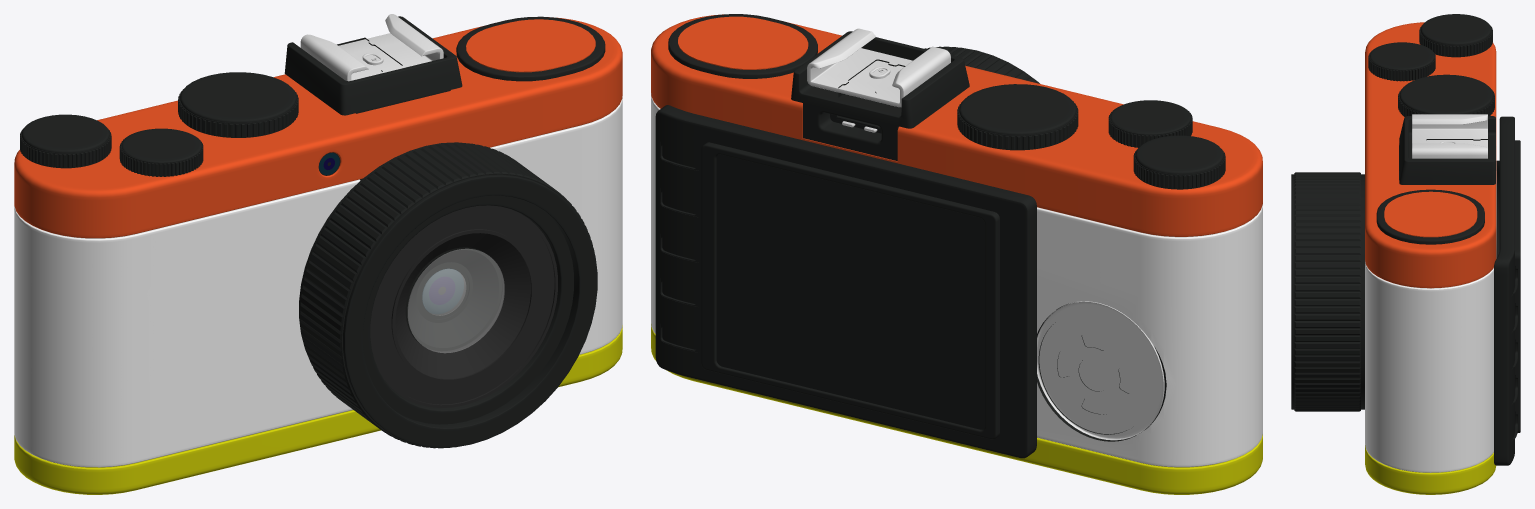
File: camera.glb
3 views of the same model, side by side, from view 1: azimuth 30°, elevation 25°; view 2: azimuth 150°, elevation 25°; view 3: azimuth 270°, elevation 25° (orthographic). The views are drawn at different scales.
Parts seen in each view (by area): view 1: middle body, lens, top, top buttons, bottom, Cube.005, lens glass.001, lens glass; view 2: display, middle body, top, top buttons, Cube.005, buttons front, bottom, lens; view 3: middle body, lens, top, top buttons, display, Cube.005, bottom, buttons front.
Part boxes in pixels (x1,y1,x2,y2): middle body: [14, 96, 622, 467]; lens: [299, 142, 597, 448]; top: [14, 17, 622, 238]; top buttons: [20, 16, 605, 176]; bottom: [14, 325, 622, 494]; Cube.005: [284, 14, 462, 115]; lens glass.001: [408, 249, 504, 352]; lens glass: [422, 269, 465, 315]; display: [655, 105, 1036, 458]; middle body: [651, 93, 1262, 467]; top: [651, 14, 1262, 236]; top buttons: [668, 14, 1225, 189]; Cube.005: [791, 28, 969, 160]; buttons front: [1037, 301, 1164, 441]; bottom: [651, 324, 1262, 494]; lens: [924, 46, 1039, 83]; middle body: [1365, 260, 1493, 472]; lens: [1291, 172, 1364, 411]; top: [1365, 22, 1496, 288]; top buttons: [1368, 14, 1494, 244]; display: [1494, 116, 1520, 465]; Cube.005: [1399, 114, 1495, 184]; bottom: [1365, 445, 1496, 494]; buttons front: [1496, 160, 1499, 258].
Bounding box in the file's own units: 0.8174 × 0.4552 × 0.3435.
